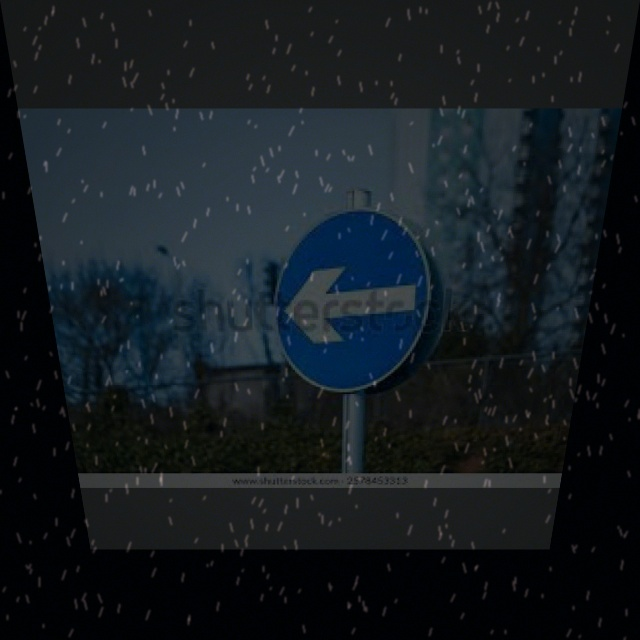Compulsory_Turn_Left: (270, 207, 447, 398)
